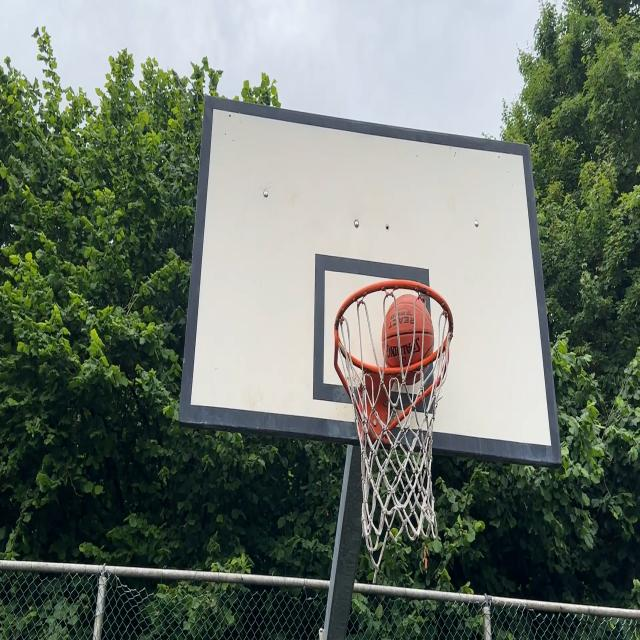rebound_hit: (380, 293, 434, 387)
